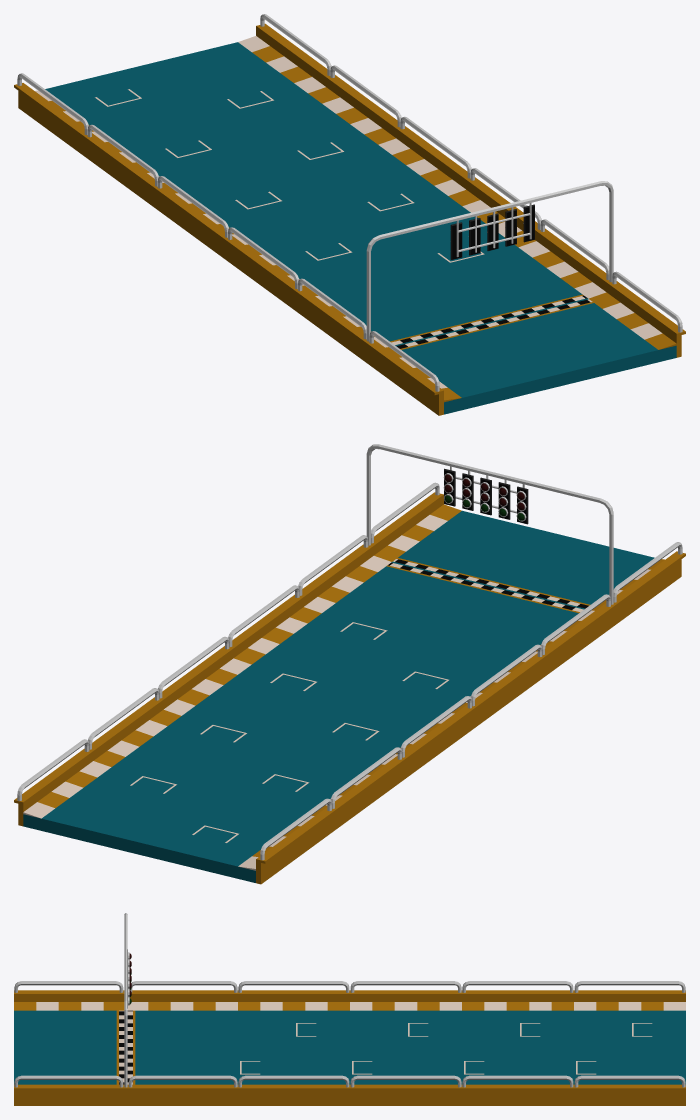
File: start.FBX
3 renders of one model, top to bottom at view 1: azimuth 30°, elevation 25°; view 2: azimuth 150°, elevation 25°; view 3: azimuth 270°, elevation 25°, orthographic. The views are drawn at different scales.
Parts seen in each view (by area): view 1: start, wall_r, wall_l, curbs_l, startLights, lightMount, curbs_r; view 2: start, wall_r, wall_l, curbs_l, lightMount, startLights, curbs_r; view 3: start, wall_l, wall_r, curbs_r, lightMount.
Boxes of the visible parts, x1,y1,x2,y2 form: start: (45,42,676,414); wall_r: (14,73,443,415); wall_l: (256,14,685,357); curbs_l: (238,36,676,349); startLights: (450,202,534,259); lightMount: (366,181,613,341); curbs_r: (35,90,461,402); start: (23,510,654,882); wall_r: (256,542,685,884); wall_l: (14,482,443,826); curbs_l: (23,504,461,818); lightMount: (366,444,613,604); startLights: (443,466,528,524); curbs_r: (238,559,664,870); start: (14,1010,685,1084); wall_l: (14,1075,685,1105); wall_r: (14,981,685,1001); curbs_r: (14,1002,685,1010); lightMount: (124,913,127,1087).
Size of what is drawn, in the model's own units: 207 by 99.83 by 600.
